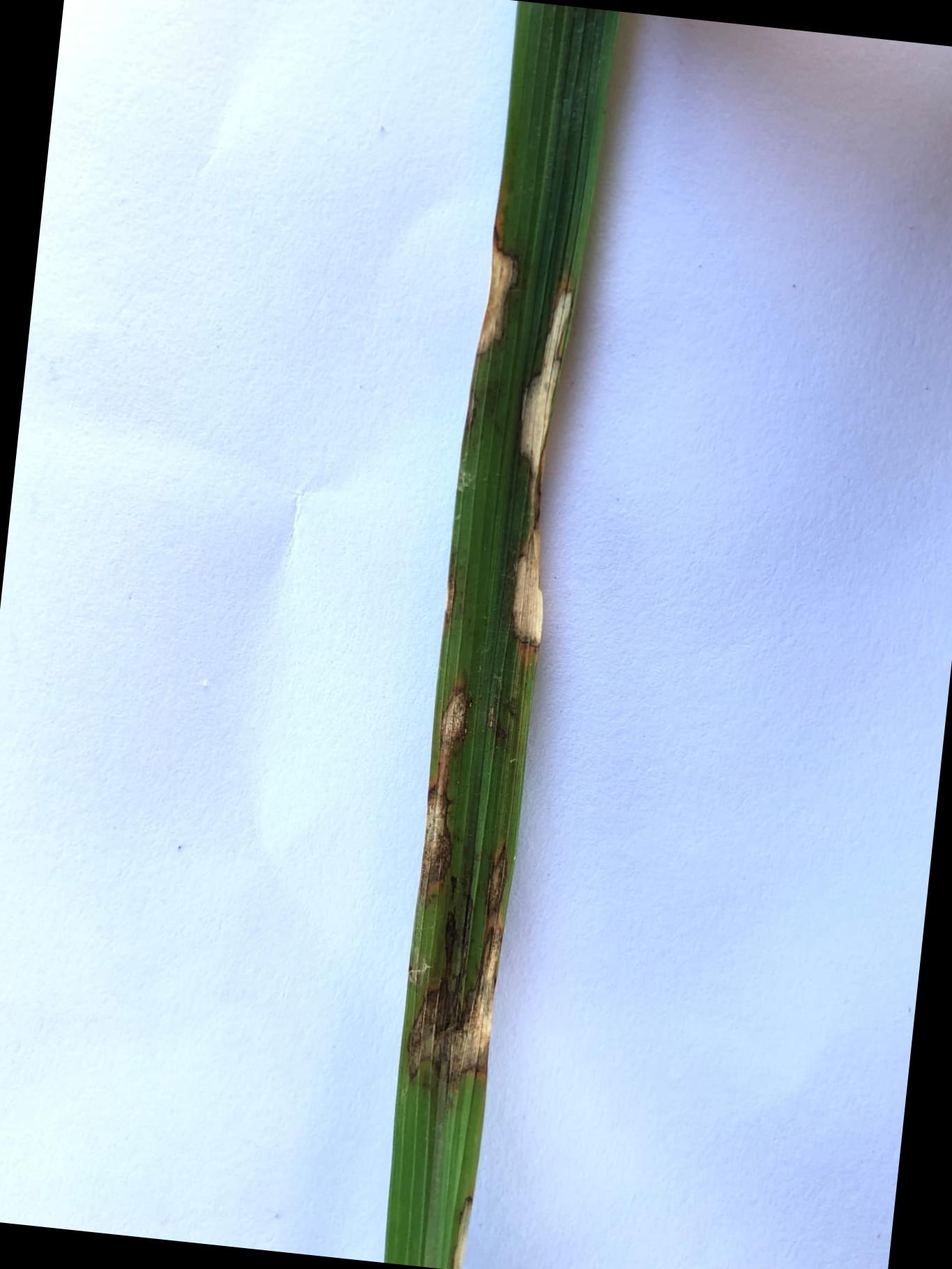Leaf Blight: (509, 286, 577, 649), (406, 845, 505, 1085), (421, 678, 472, 897), (472, 240, 517, 364), (450, 1194, 472, 1269), (441, 571, 456, 624)
